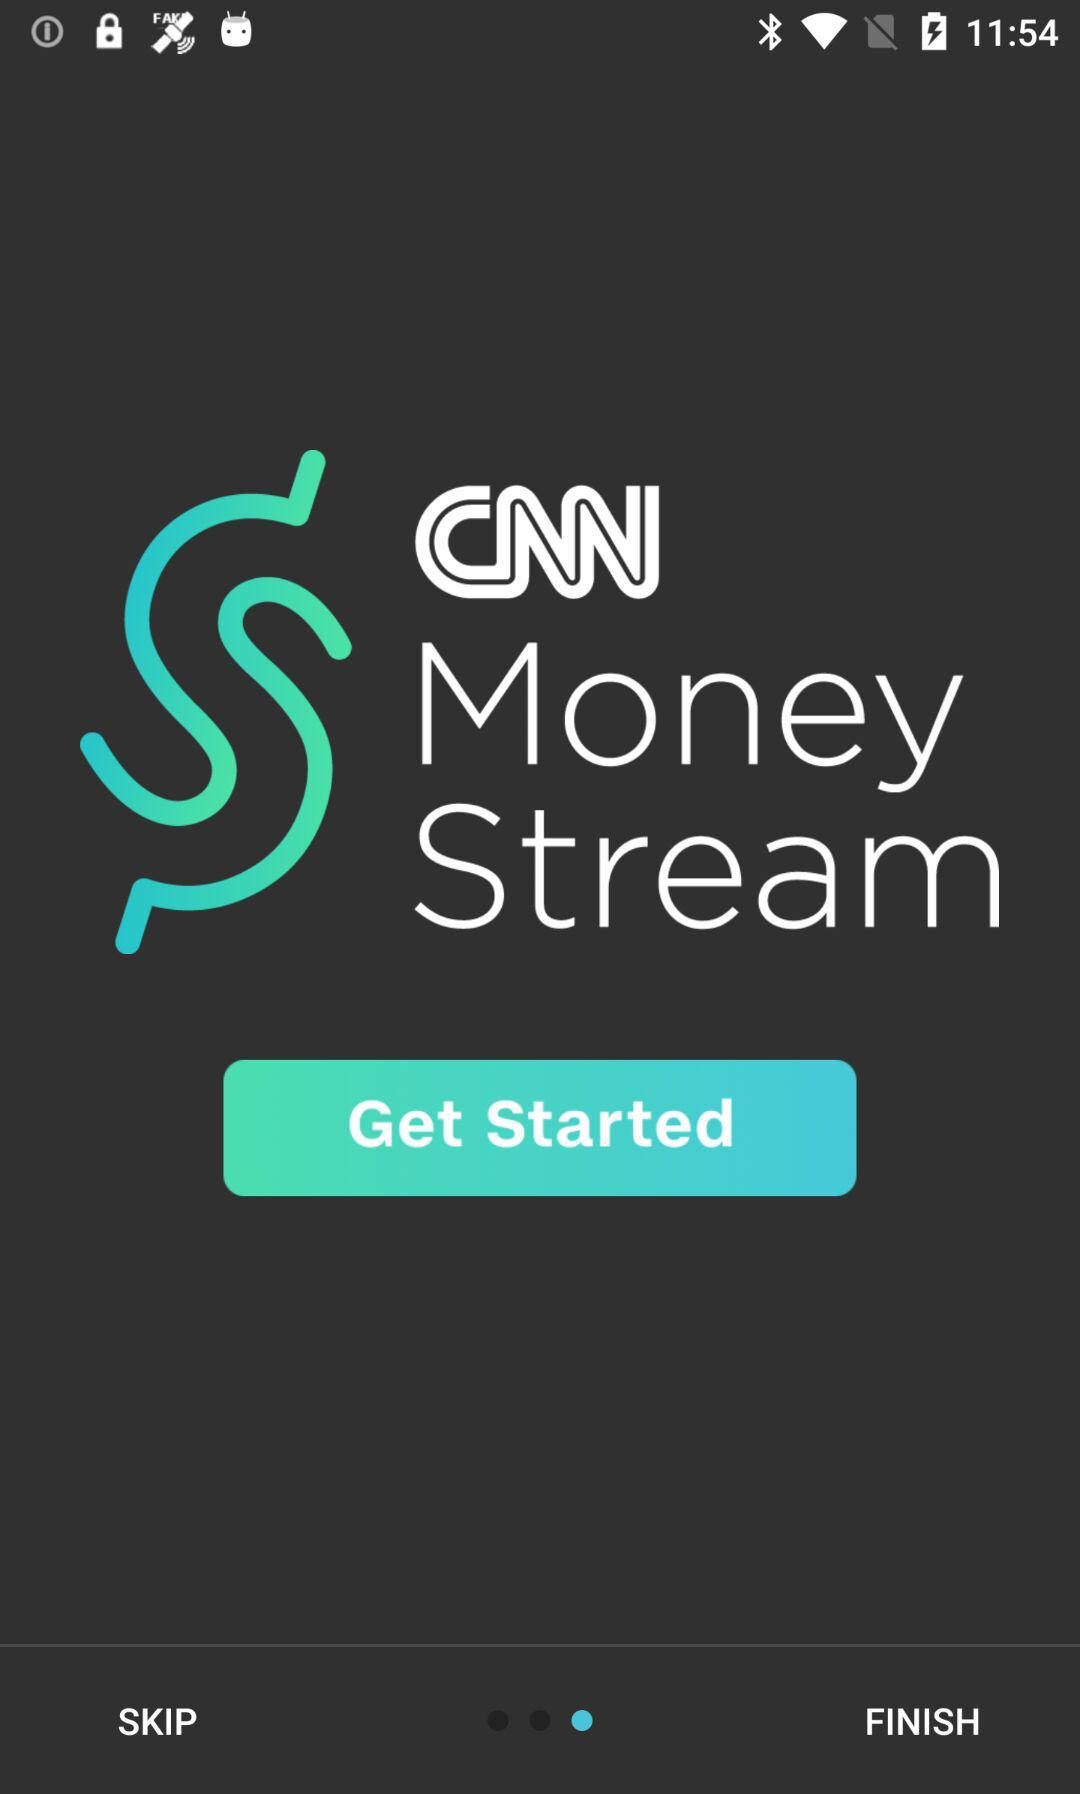Image: (79, 448, 352, 956), (414, 484, 661, 601)
PageIndicator: (487, 1708, 594, 1732)
Text: (414, 641, 1001, 932), (867, 1707, 980, 1736), (120, 1707, 199, 1736)
TextButton: (223, 1060, 857, 1197)
UpperTaskBar: (1, 1, 1080, 64)
